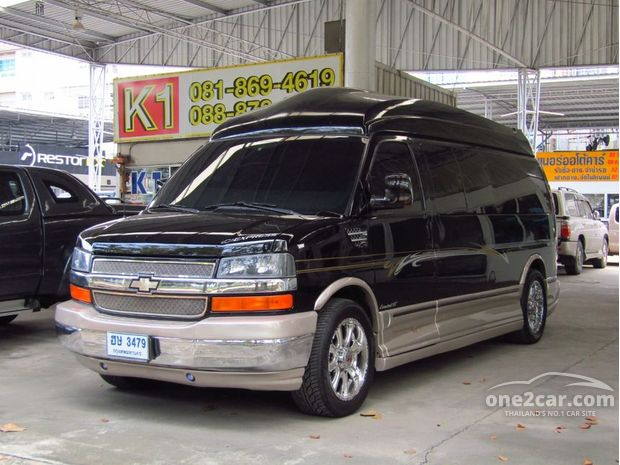van: (54, 85, 562, 418)
